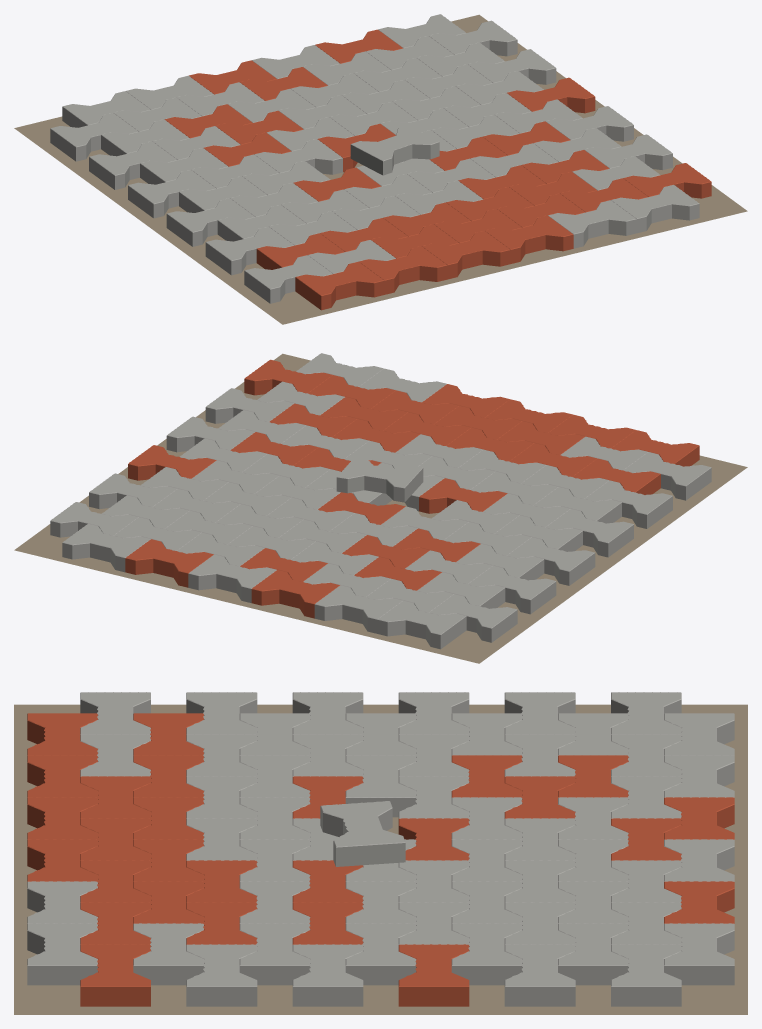
Rendered from terilgan.glb.
3 renders of one model, top to bottom at view 1: azimuth 30°, elevation 25°; view 2: azimuth 150°, elevation 25°; view 3: azimuth 270°, elevation 25°, orthographic. The views are drawn at different scales.
Visible parts, largest first — view 1: qum, t.035, t.042, t.054, t.072, t.078, t.064, t.082, t.030, t.012, t.020, t.002 (+72 smaller); view 2: qum, t.001, t.035, t.019, t.005, t.011, t.029, t.041, t, t.006, t.002, t.020 (+73 smaller); view 3: qum, t.035, t.041, t.082, t.081, t.063, t.077, t.071, t.083, t.053, t.062, t.076 (+73 smaller).
Part boxes in pixels (x1,y1,x2,y2): qum: [14, 14, 747, 324]; t.035: [350, 125, 439, 175]; t.042: [295, 261, 384, 310]; t.054: [359, 246, 447, 294]; t.072: [485, 215, 573, 263]; t.078: [548, 200, 636, 248]; t.064: [422, 231, 510, 279]; t.082: [611, 185, 699, 233]; t.030: [244, 255, 332, 303]; t.012: [166, 198, 254, 246]; t.020: [205, 226, 293, 275]; t.002: [89, 141, 177, 189]; qum: [14, 353, 747, 663]; t.001: [377, 600, 466, 649]; t.035: [336, 456, 423, 502]; t.019: [188, 554, 276, 602]; t.005: [314, 585, 402, 633]; t.011: [251, 570, 339, 618]; t.029: [125, 539, 213, 587]; t.041: [62, 524, 150, 572]; t: [429, 594, 517, 642]; t.006: [507, 537, 595, 585]; t.002: [468, 565, 556, 614]; t.020: [585, 480, 672, 528]; qum: [14, 704, 747, 1014]; t.035: [320, 801, 405, 866]; t.041: [664, 923, 734, 985]; t.082: [27, 923, 97, 985]; t.081: [186, 944, 257, 1006]; t.063: [504, 944, 575, 1006]; t.077: [292, 944, 363, 1006]; t.071: [398, 944, 469, 1006]; t.083: [80, 944, 150, 1006]; t.053: [611, 944, 681, 1006]; t.062: [451, 923, 522, 985]; t.076: [239, 923, 310, 985].
Size of the model in its own units: 1.66 by 0.102 by 1.66.
